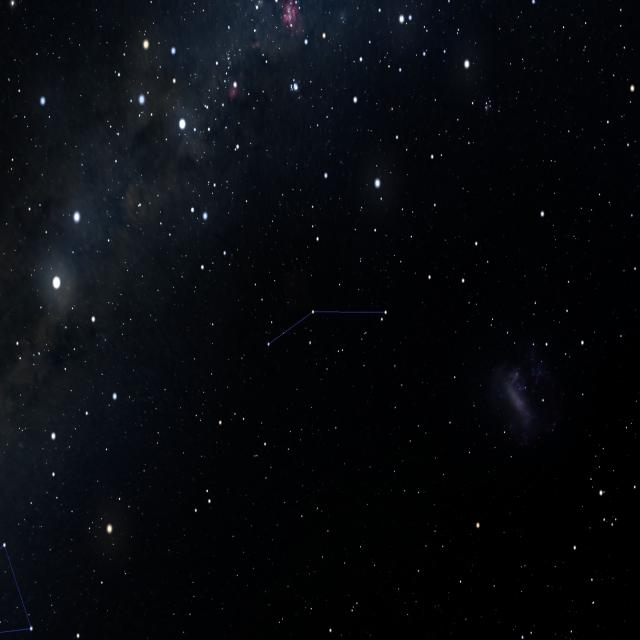Chamaeleon: (261, 301, 397, 362)
